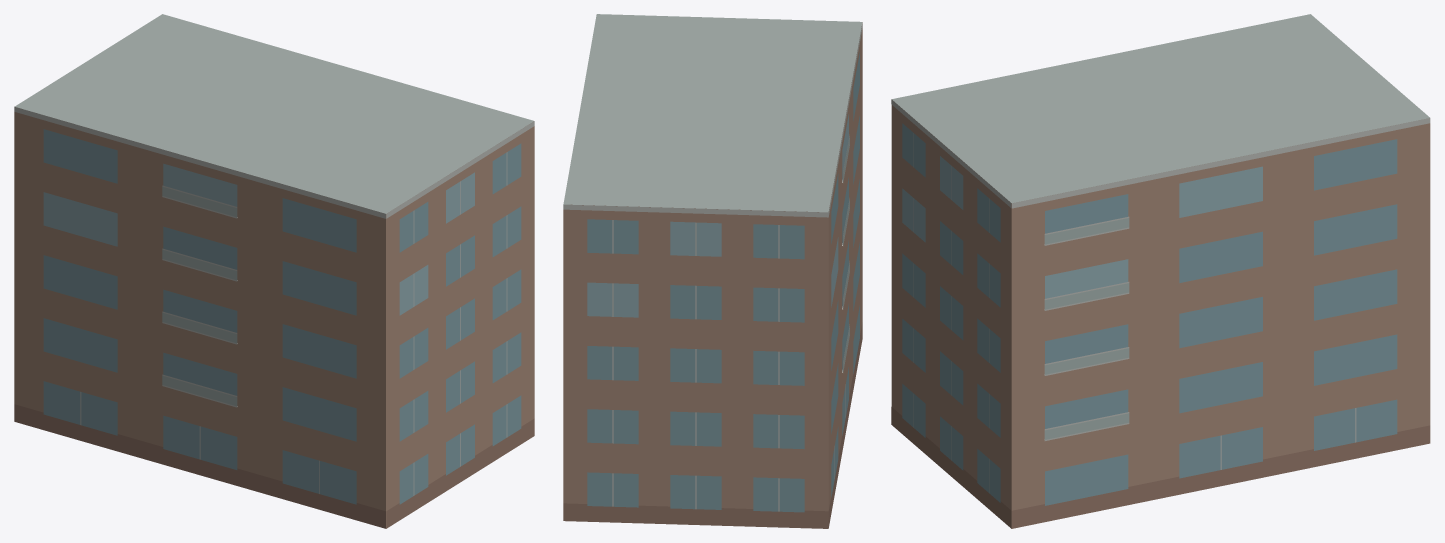
File: survey-upis-32980326.glb
3 views of the same model, side by side, from view 1: azimuth 30°, elevation 25°; view 2: azimuth 150°, elevation 25°; view 3: azimuth 270°, elevation 25° (orthographic). The views are drawn at different scales.
Parts seen in each view (by area): view 1: survey-upis-32980326.tmp; view 2: survey-upis-32980326.tmp; view 3: survey-upis-32980326.tmp.
Part boxes in pixels (box(x1,y1,x2,y2)): survey-upis-32980326.tmp: box(14, 14, 534, 528); survey-upis-32980326.tmp: box(563, 14, 862, 528); survey-upis-32980326.tmp: box(891, 14, 1430, 528).
Size of the model in its own units: 18.84 by 15.1 by 22.66.
